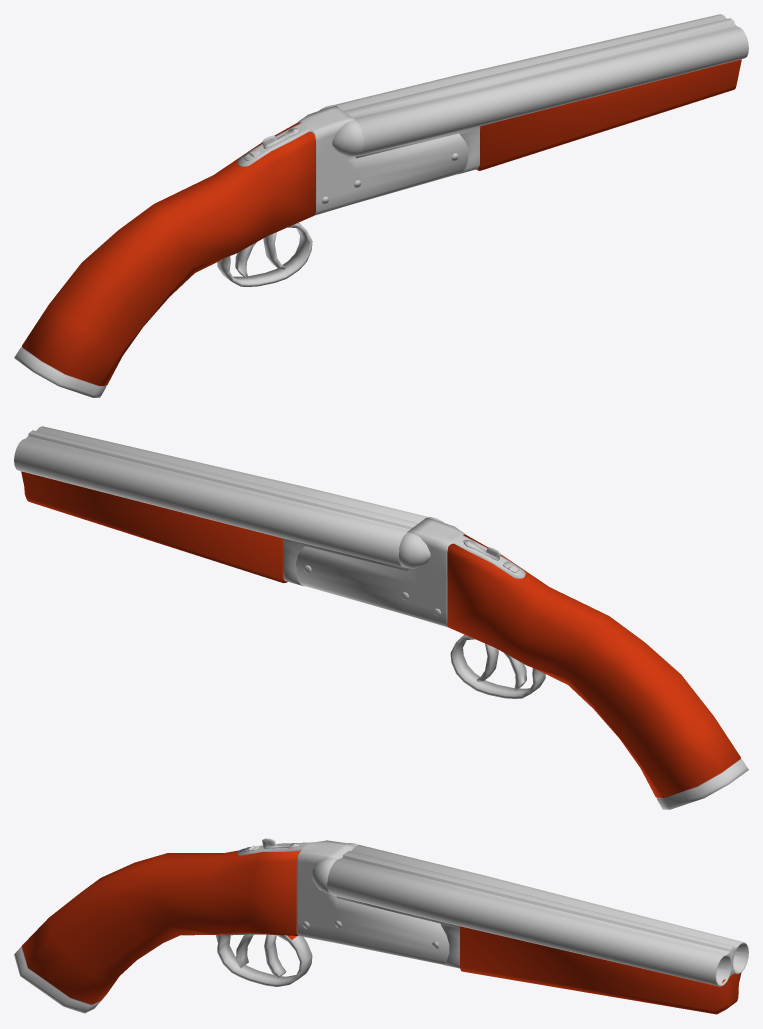
Rendered from doubleBarrel.obj.
3 views of the same model, one above another, from view 1: azimuth 30°, elevation 25°; view 2: azimuth 150°, elevation 25°; view 3: azimuth 330°, elevation 25° (orthographic).
Visible parts, largest first — view 1: Circle.004_Circle.001, Cylinder, Cylinder.007_Cylinder.008; view 2: Circle.004_Circle.001, Cylinder, Cylinder.007_Cylinder.008; view 3: Circle.004_Circle.001, Cylinder, Cylinder.007_Cylinder.008.
Boxes of the visible parts, x1,y1,x2,y2 form: Circle.004_Circle.001: (14,105,468,397); Cylinder: (334,14,748,174); Cylinder.007_Cylinder.008: (235,232,285,278); Circle.004_Circle.001: (296,517,748,809); Cylinder: (14,426,428,586); Cylinder.007_Cylinder.008: (477,643,526,691); Circle.004_Circle.001: (14,838,449,1013); Cylinder: (326,845,748,1014); Cylinder.007_Cylinder.008: (236,934,285,977).
Size of the model in its own units: 4.53 by 1.33 by 0.425.
